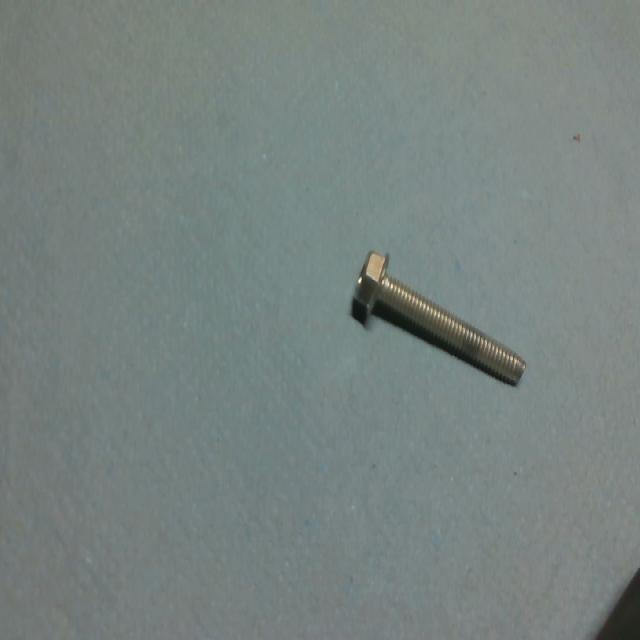Bolt: (351, 253, 527, 388)
